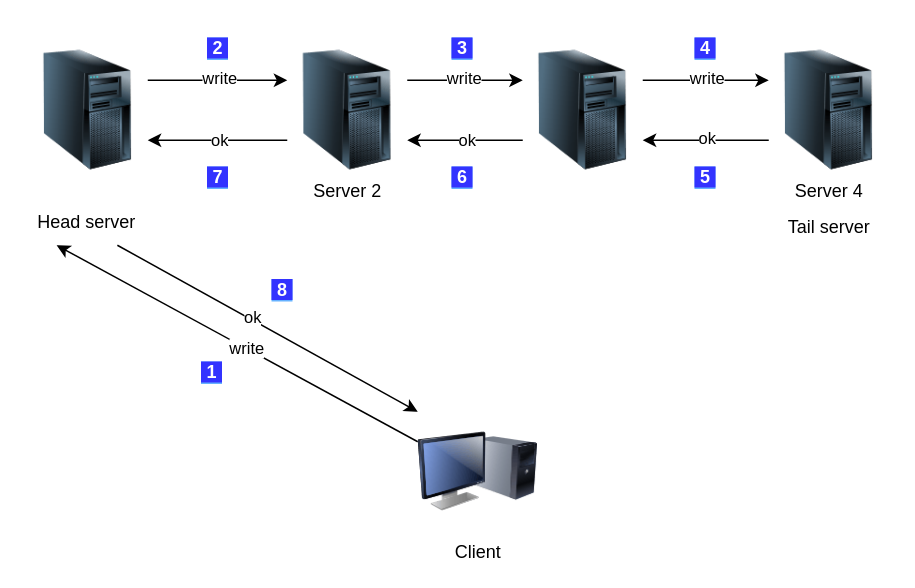
Image size: 915x588. Some labels were removed from this diagram. The shapes that lost their labels are listed below. From the top down, each one's centre as x and y in pixels, then its label:
At (87,110): "Server 1".
At (582,110): "Server 3".
